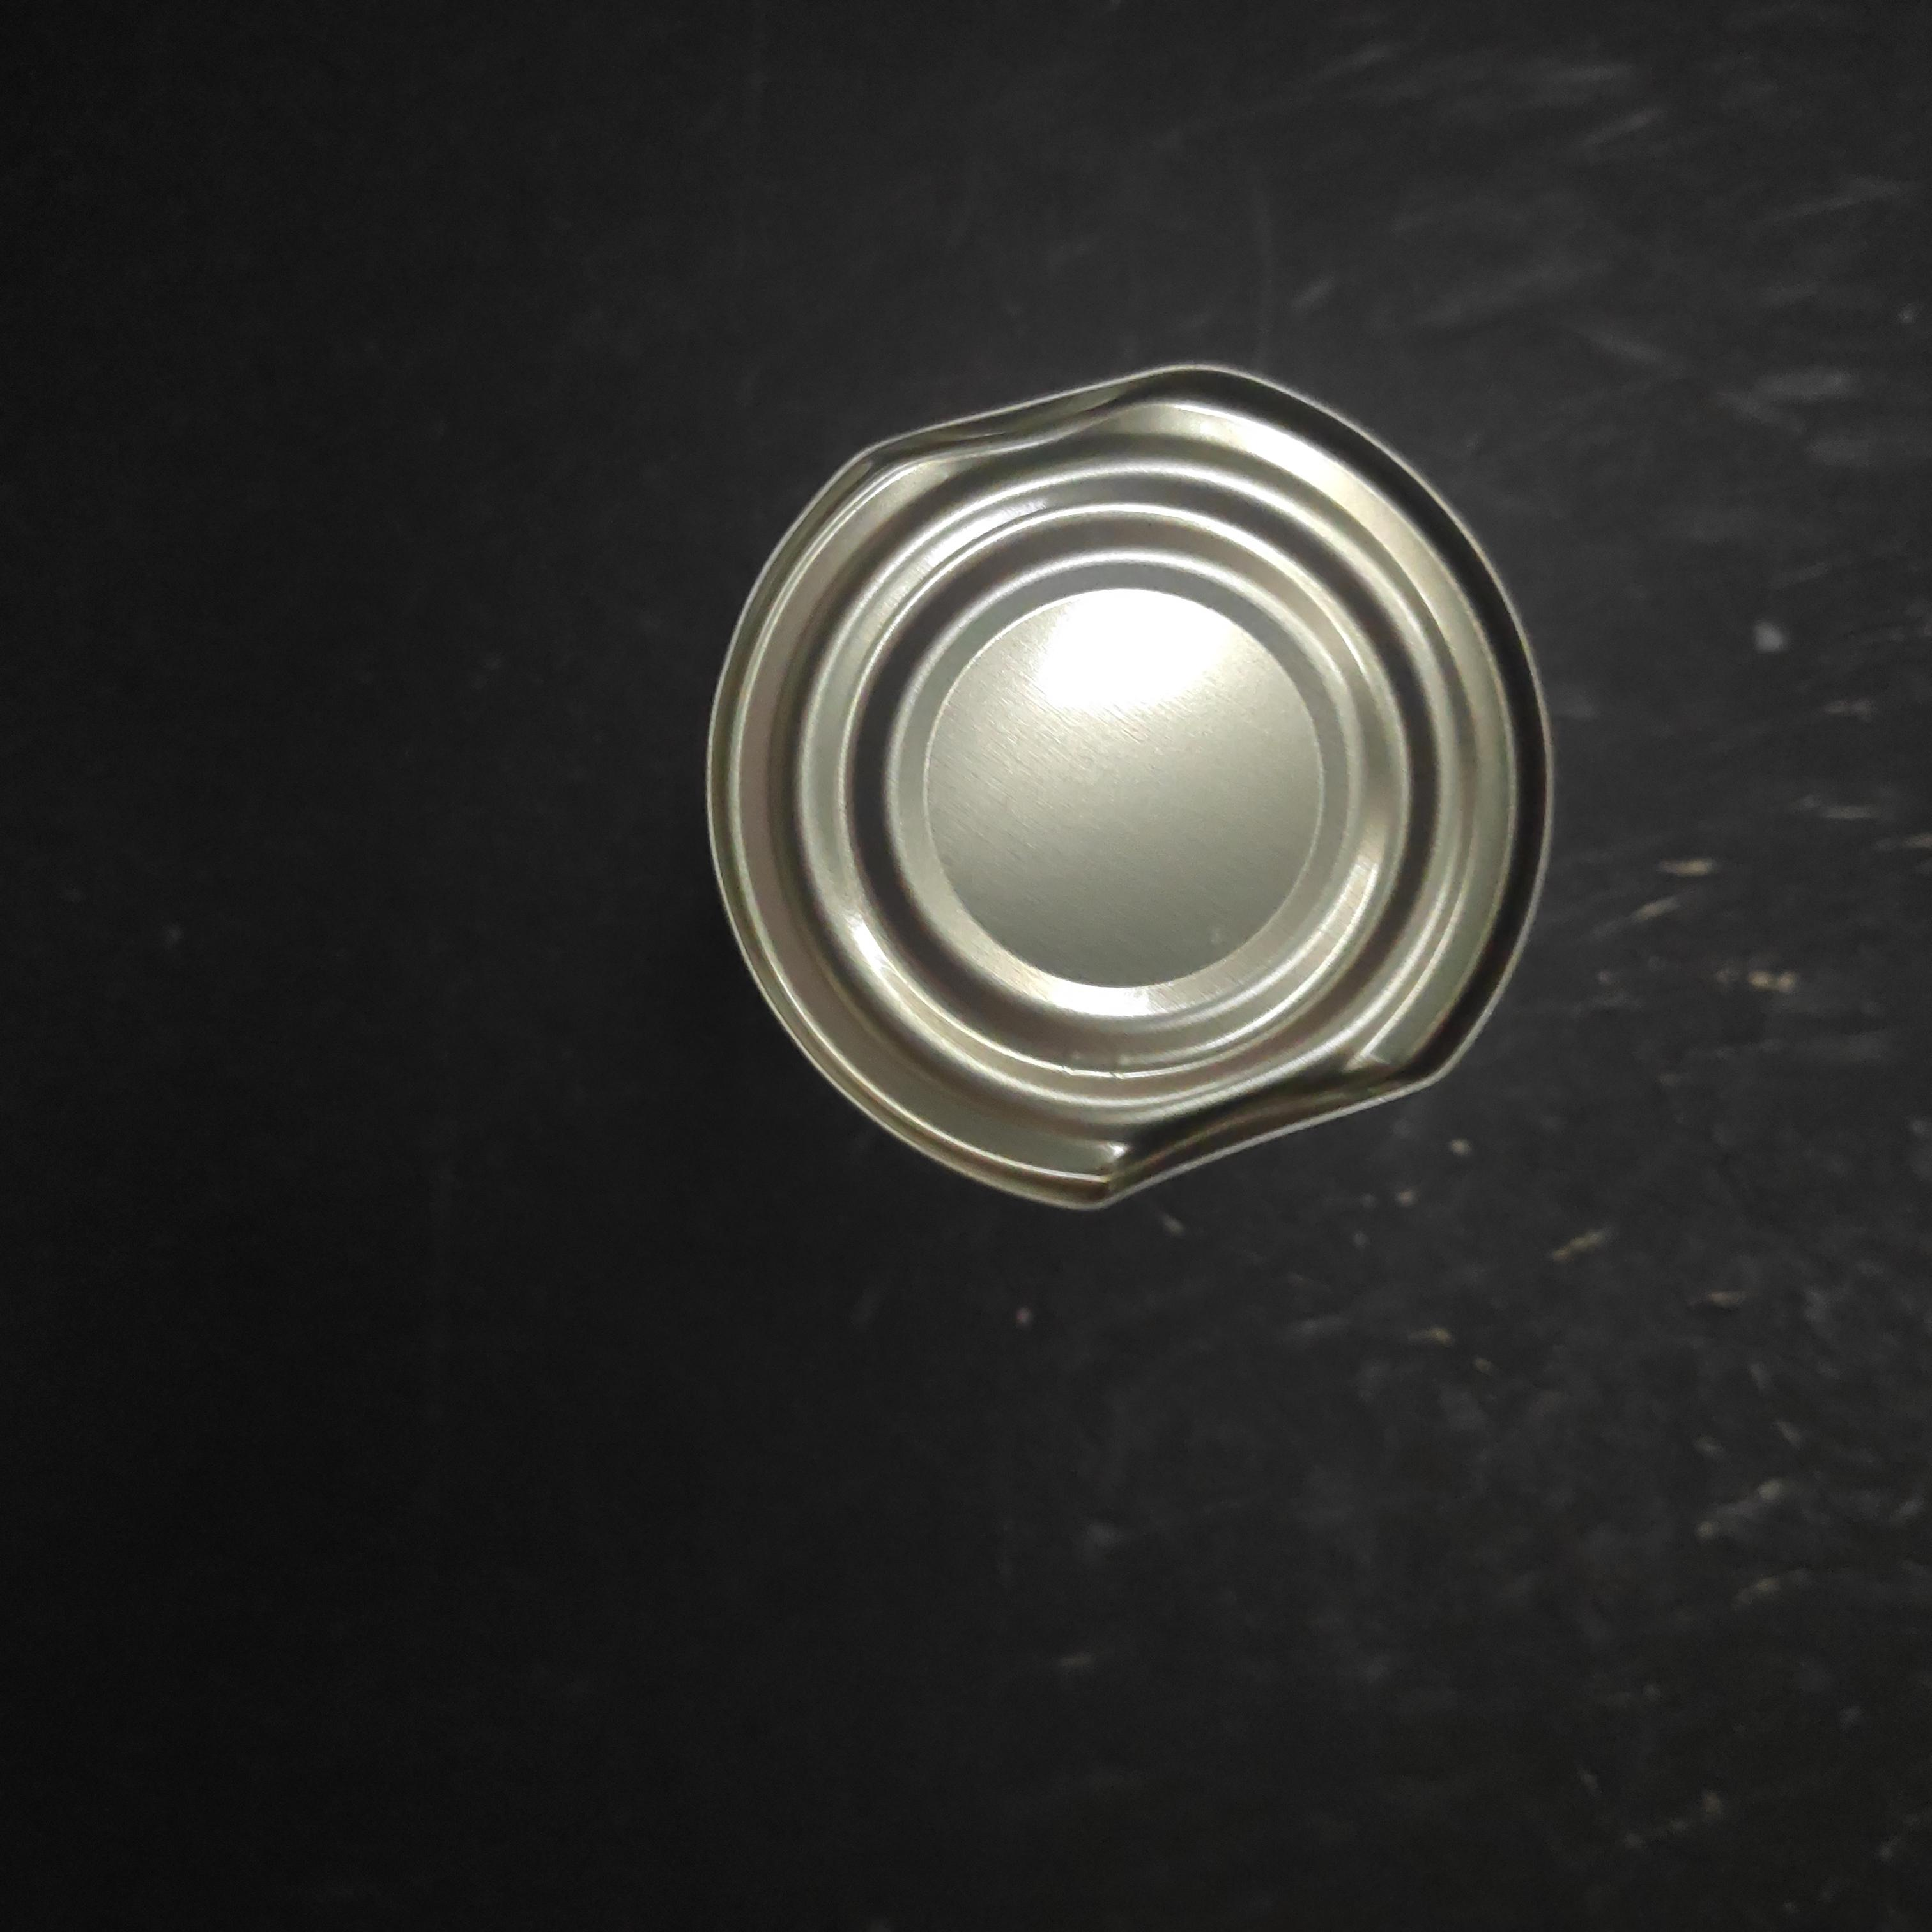Minor Defect: (701, 359, 1569, 1224)
